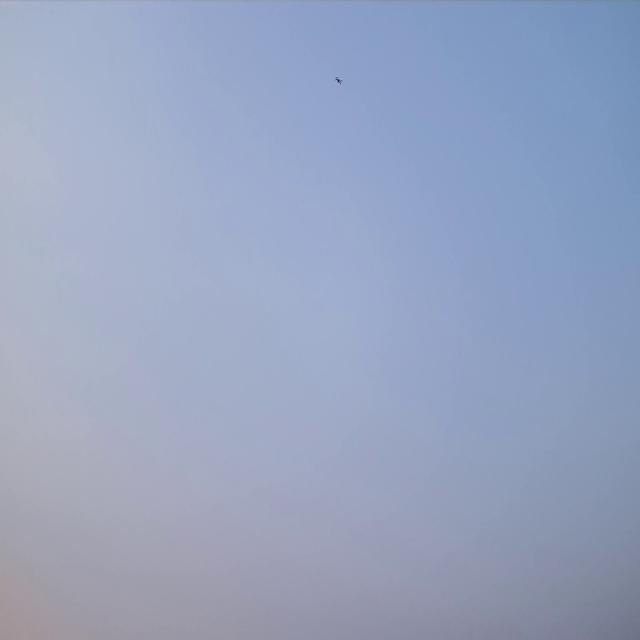UAV: (335, 76, 342, 84)
